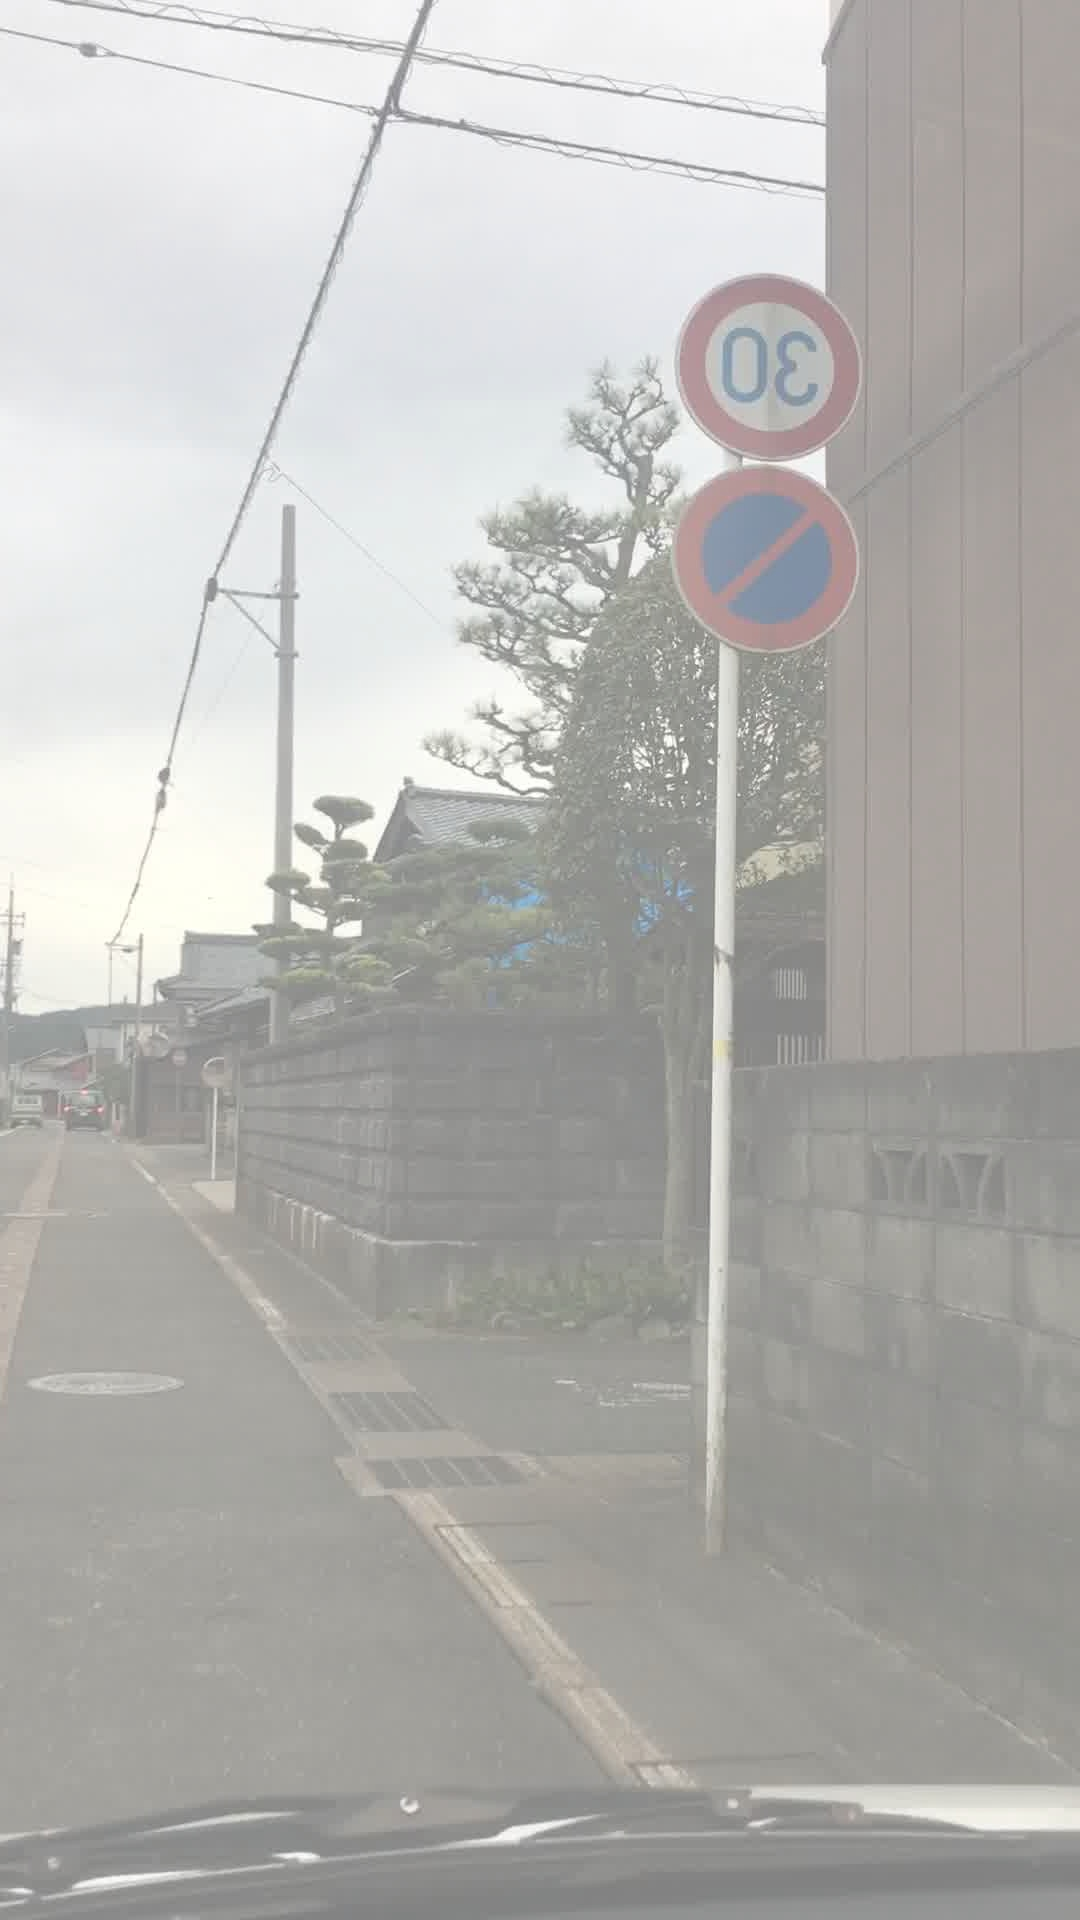Prohibition_sign: (650, 477, 868, 662)
Speed_sign: (666, 264, 856, 469)
